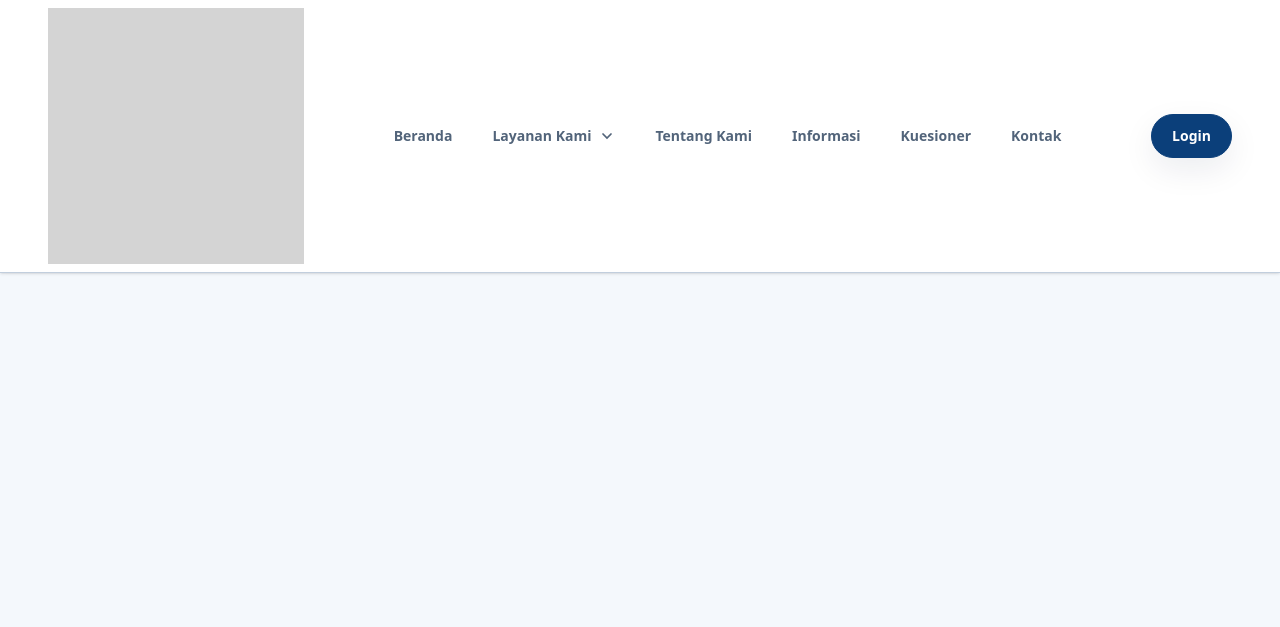
Scenario: SiteHeader › membuka dan menutup dropdown layanan melalui Escape
Step 1. Click the button "Layanan Kami" → (554, 136), box [476,114,632,158]
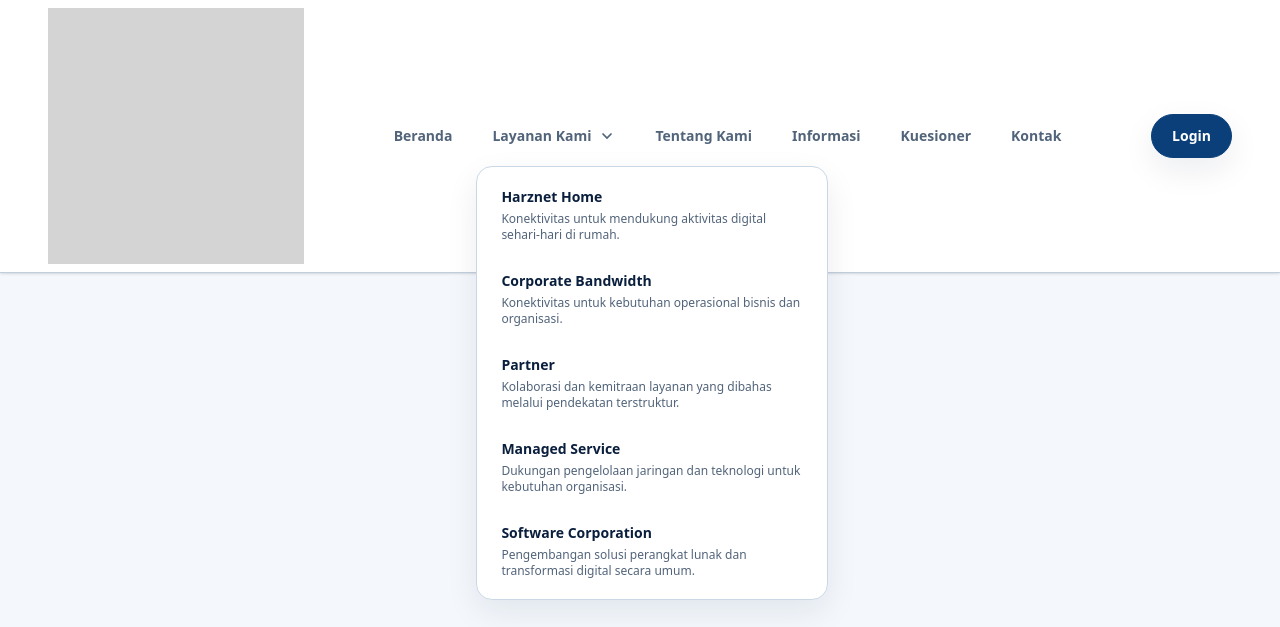
Step 2. Press Escape in the button "Layanan Kami", box [476,114,632,158]
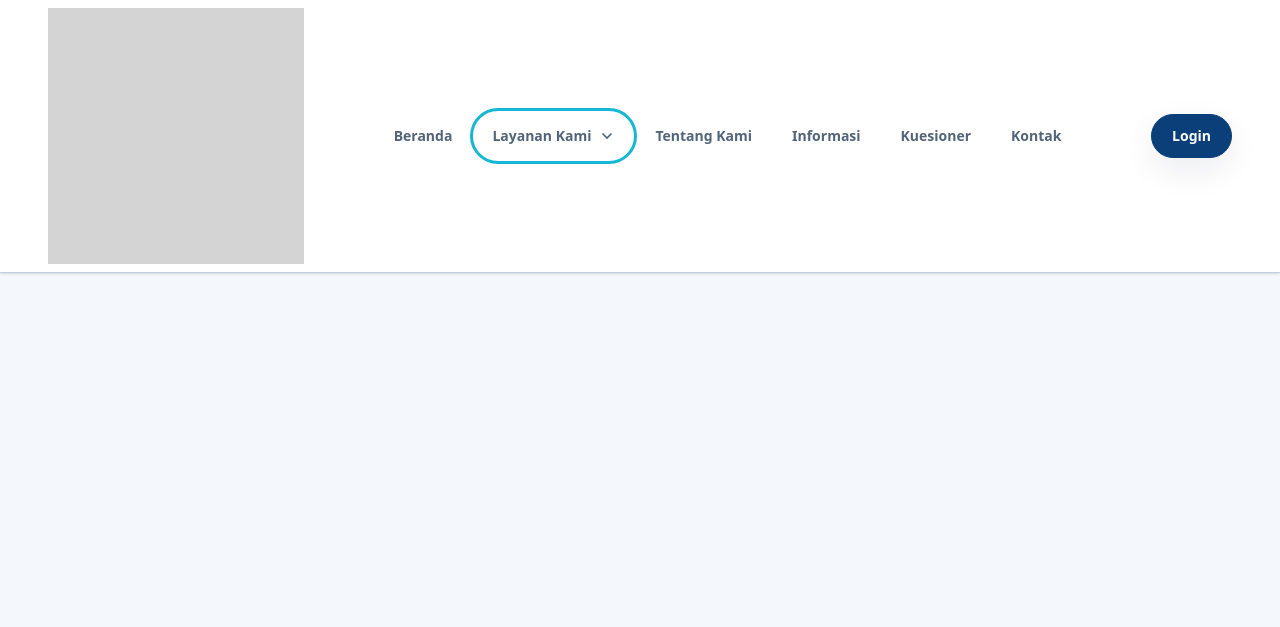
Result: the button "Layanan Kami" is collapsed at [476,114,632,158]
